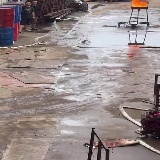fire: (131, 0, 146, 7)
